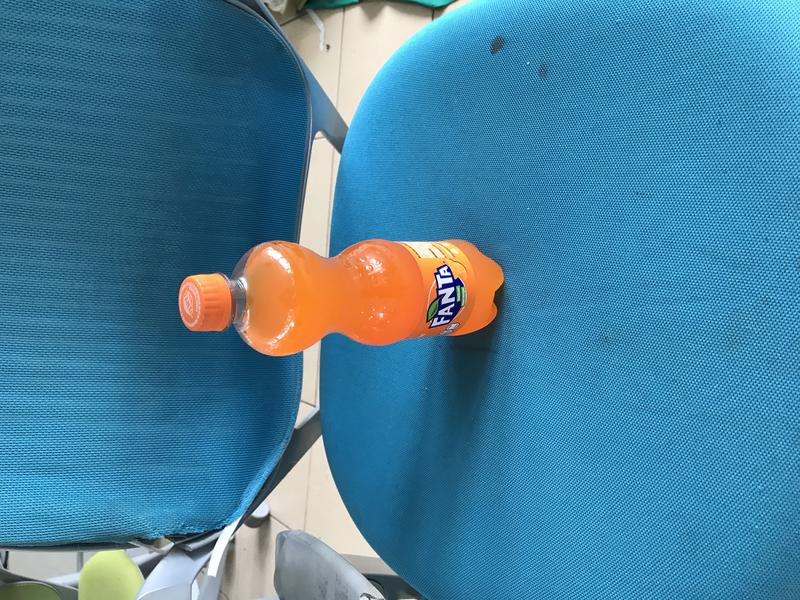fanta: (177, 238, 505, 357)
